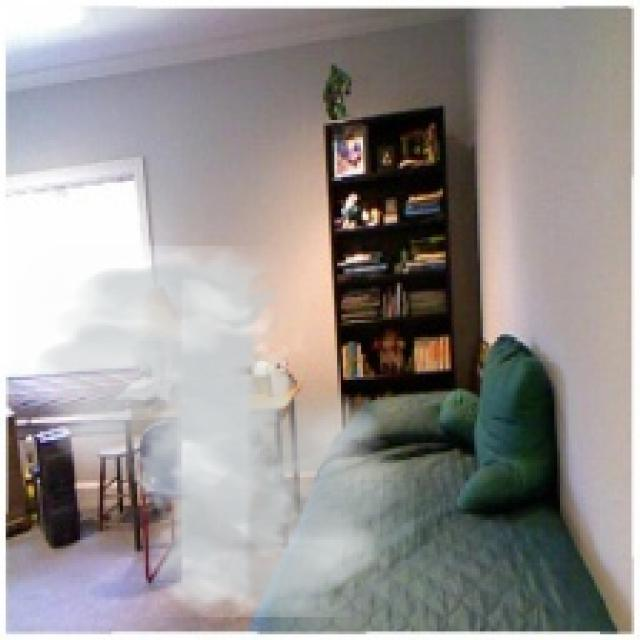smoke: (14, 246, 414, 617)
